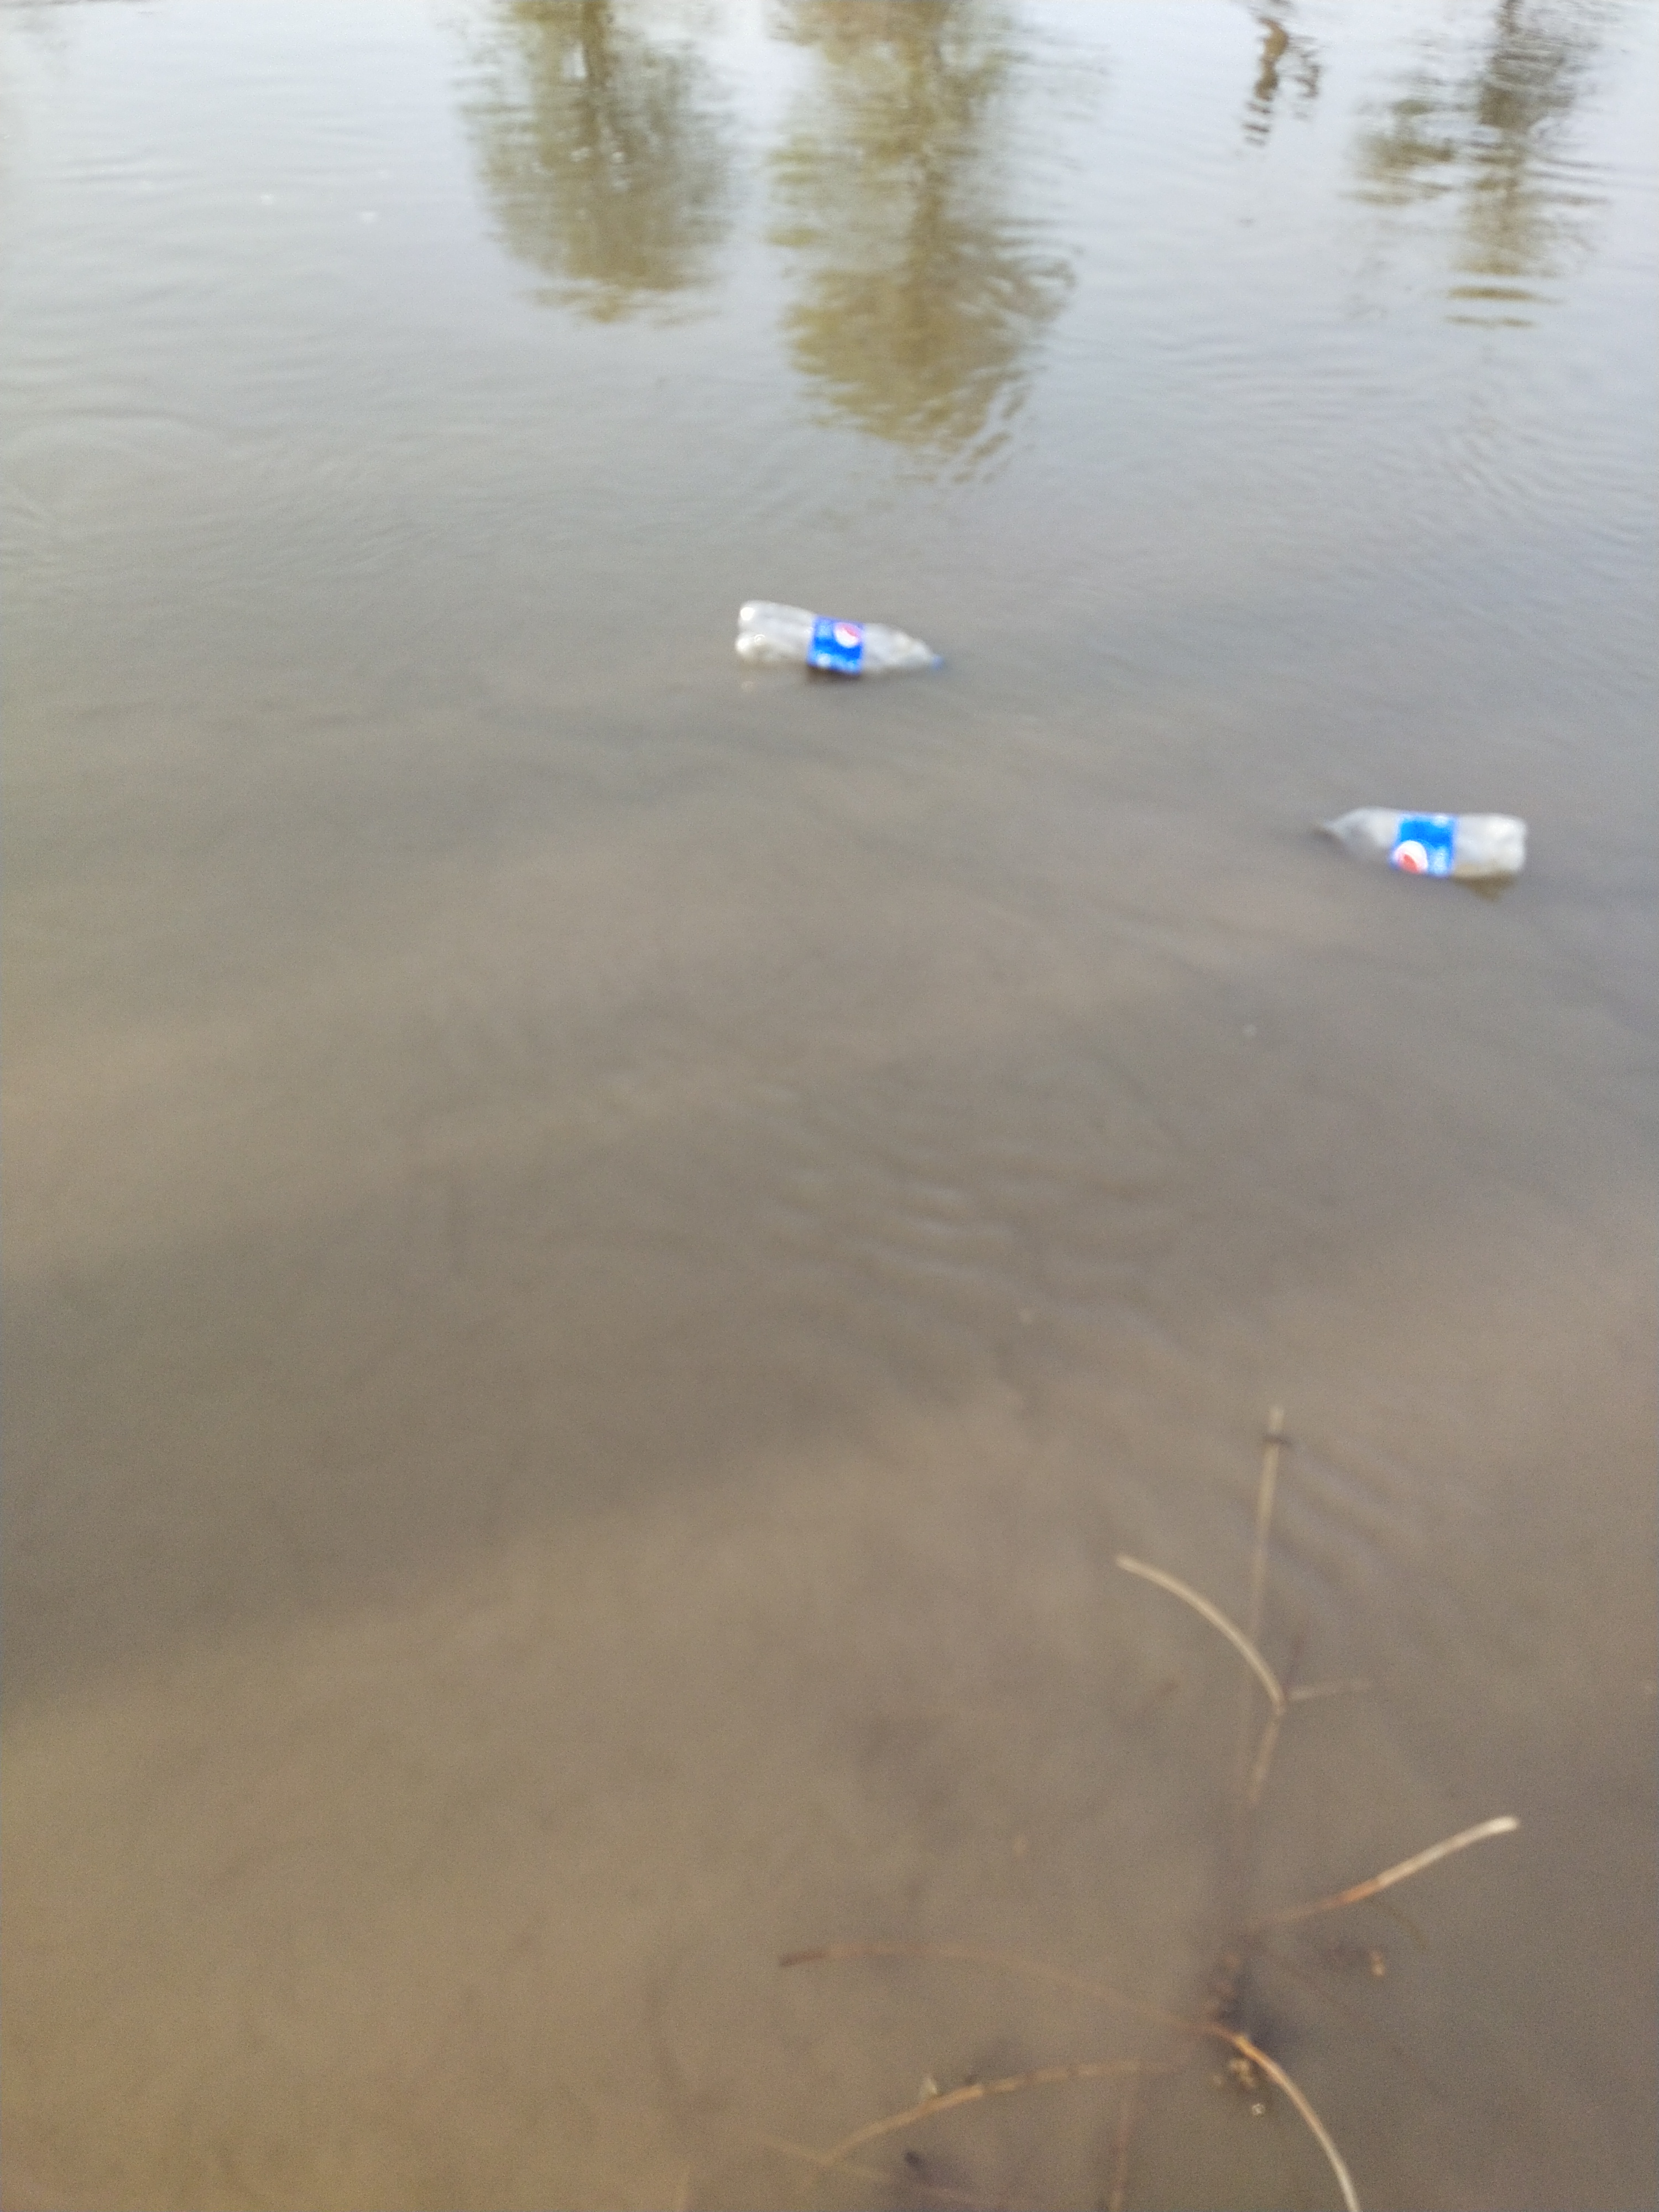Plastic Bottle: (735, 596, 941, 678), (1323, 805, 1527, 883)
